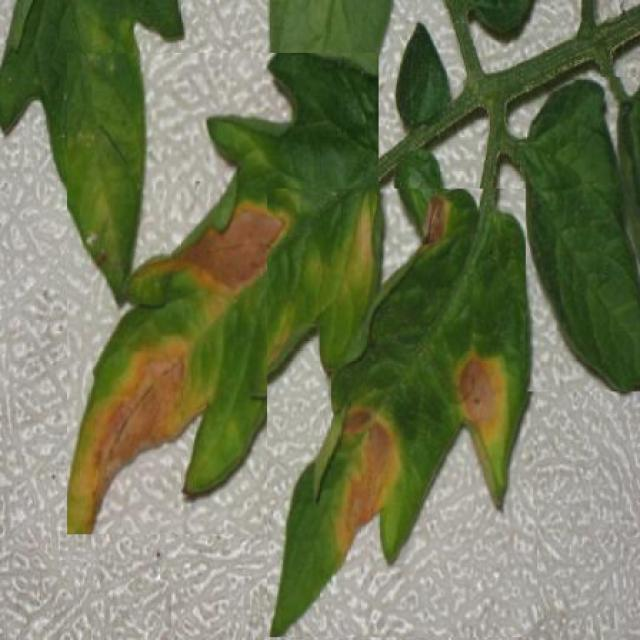Early Blight: (68, 53, 379, 534), (267, 189, 537, 638)
Healthy: (525, 77, 640, 391)
